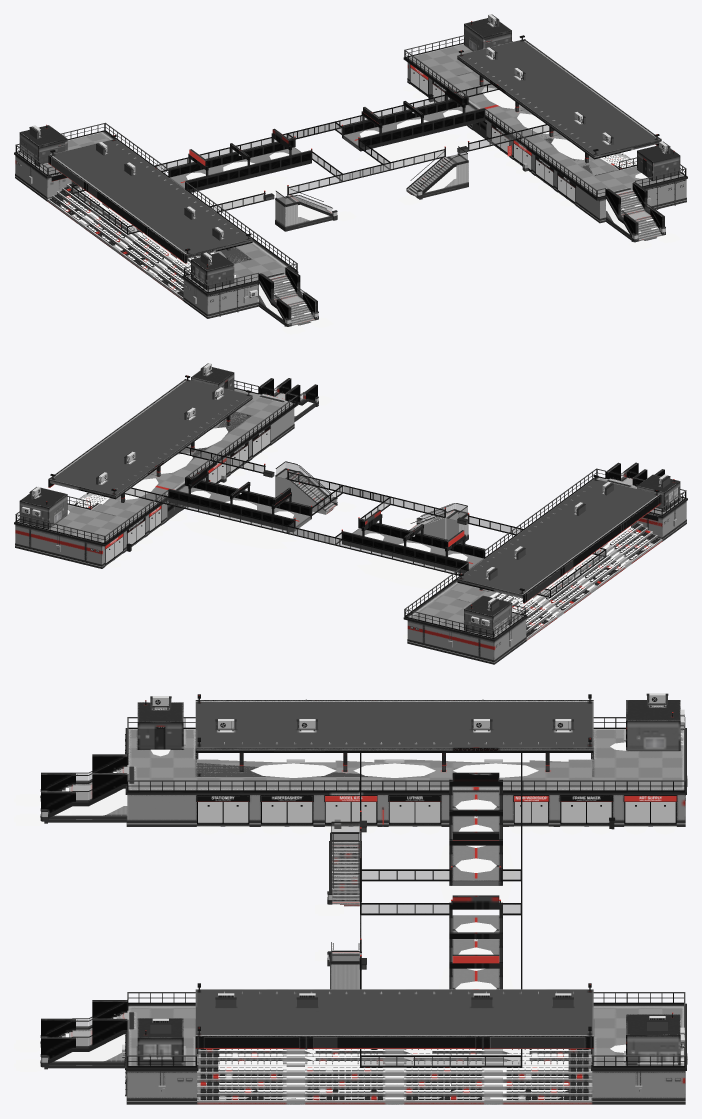
Rendered from grandstand-CkjrEiKO.glb.
3 renders of one model, top to bottom at view 1: azimuth 30°, elevation 25°; view 2: azimuth 150°, elevation 25°; view 3: azimuth 270°, elevation 25°, orthographic. The views are drawn at different scales.
Visible parts, largest first — view 1: farBody_west, farBody_east, body_east, body_west, pools_west, pools_east, glass_west, glass_east, farLit_west, farLit_east; view 2: farBody_west, farBody_east, body_east, body_west, pools_west, pools_east, glass_west, glass_east, farLit_west, farLit_east; view 3: farBody_east, farBody_west, body_west, body_east, pools_west, pools_east, farLit_east, farLit_west, glass_east, glass_west, glow_west.
Boxes of the visible parts, x1,y1,x2,y2 form: farBody_west: (71, 18, 684, 241); farBody_east: (15, 83, 546, 325); body_east: (14, 84, 554, 326); body_west: (71, 14, 687, 242); pools_west: (298, 84, 679, 250); pools_east: (56, 152, 456, 334); glass_west: (72, 123, 650, 233); glass_east: (272, 84, 548, 303); farLit_west: (363, 64, 575, 201); farLit_east: (51, 150, 205, 261); farBody_west: (15, 367, 606, 590); farBody_east: (131, 447, 686, 659); body_east: (125, 448, 687, 664); body_west: (14, 363, 606, 597); pools_west: (67, 390, 435, 567); pools_east: (305, 475, 653, 639); glass_west: (274, 387, 605, 596); glass_east: (125, 448, 624, 543); farLit_west: (105, 425, 290, 562); farLit_east: (448, 497, 658, 600); farBody_east: (41, 700, 685, 1056); farBody_west: (41, 753, 685, 1104); body_west: (40, 812, 687, 1104); body_east: (40, 693, 687, 1067); pools_west: (14, 855, 625, 1100); pools_east: (14, 742, 676, 961); farLit_east: (197, 796, 676, 840); farLit_west: (204, 895, 585, 1048); glass_east: (76, 772, 520, 1065); glass_west: (73, 823, 520, 1046); glow_west: (76, 810, 685, 1101).
Bounding box in the file's own units: 69.44 × 7.52 × 57.95.
6 materials, 3 textured.
